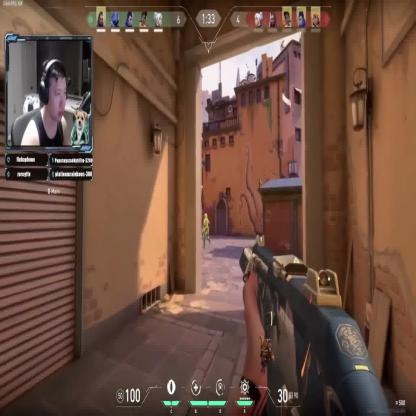enemy: (202, 213, 211, 249)
enemy_head: (204, 213, 208, 220)
